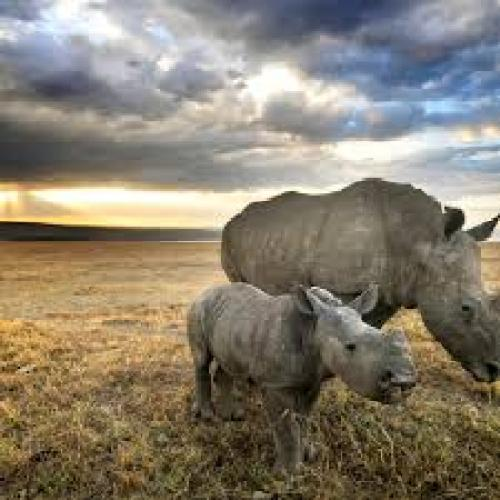rhino-endangered: (218, 177, 500, 385), (186, 278, 422, 475)
